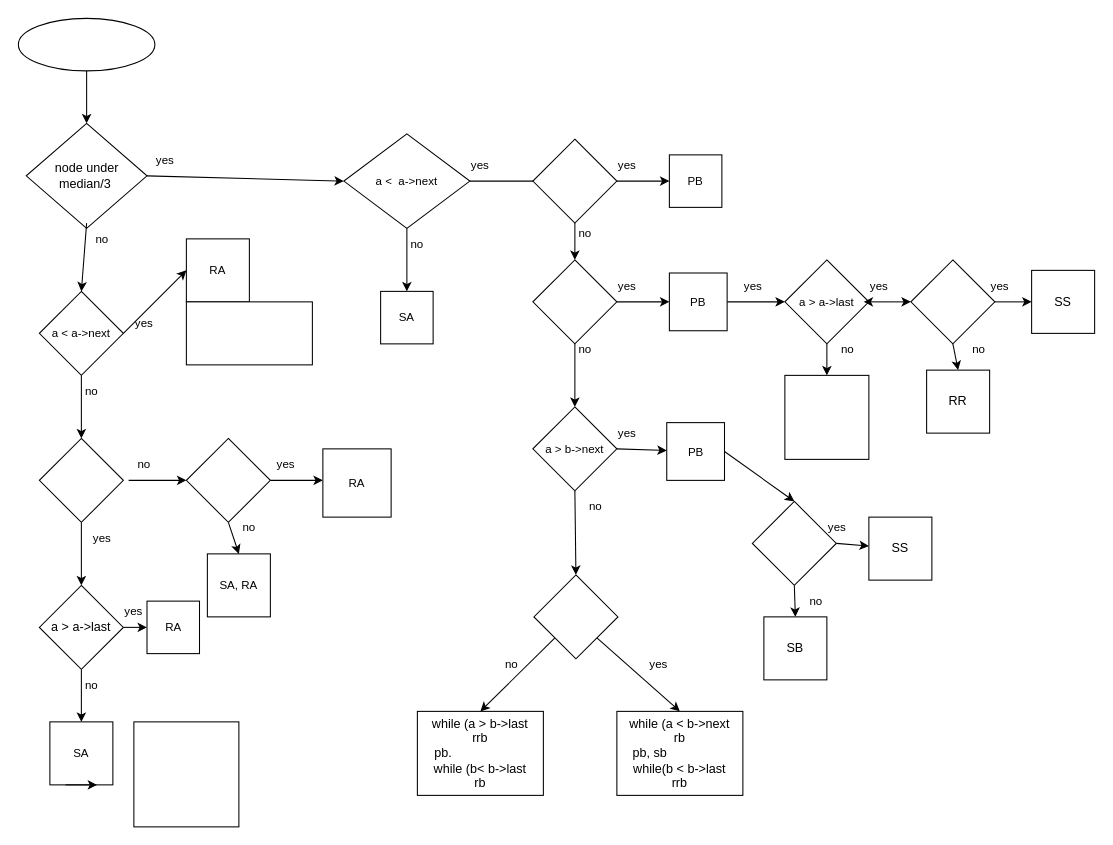
Image size: 1113x845. Some labels were removed from this diagram. The centre of each missing label's shape, as x and y in pixels:
"a < b->last" belongs at point 574,301.
"a > a->next" belongs at point 793,542.
"a > b" belongs at point 574,180.
"a from above" belongs at point 575,616.
"b > b->next" belongs at point 952,301.
"is under median/3" belongs at point 80,479.
"later test with, a->next > a->last if yes SA,RA, if no just RA" belongs at point 248,333.
"node->next < last node" belongs at point 227,479.
"RB" belongs at point 826,416.
"RRA,SA,RA,RA" belongs at point 186,774.
"Start_sort, while < 4 || sorted & a > b" belongs at point 86,44.
